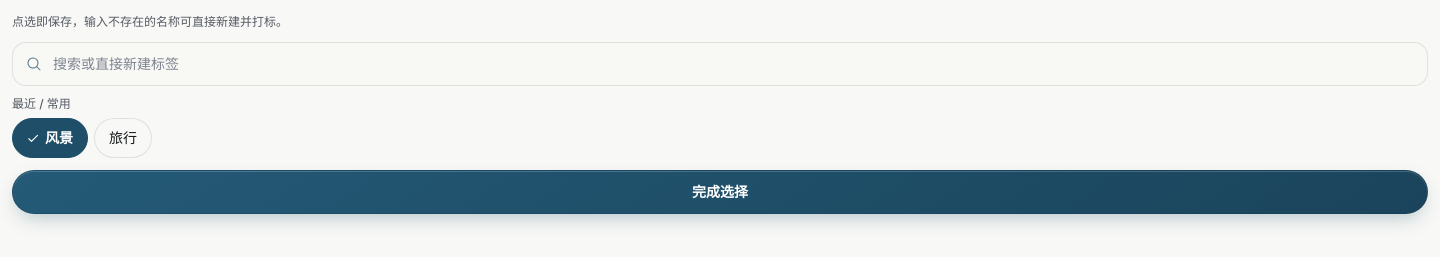
Test case: retains an unsaved label error across another label save and blocks completion until retry
This screenshot has width=1440, height=257.
Later steps or results of the test are not shown.
Click the checkbox labelled "旅行" at [123, 138], box [94,118,152,158]
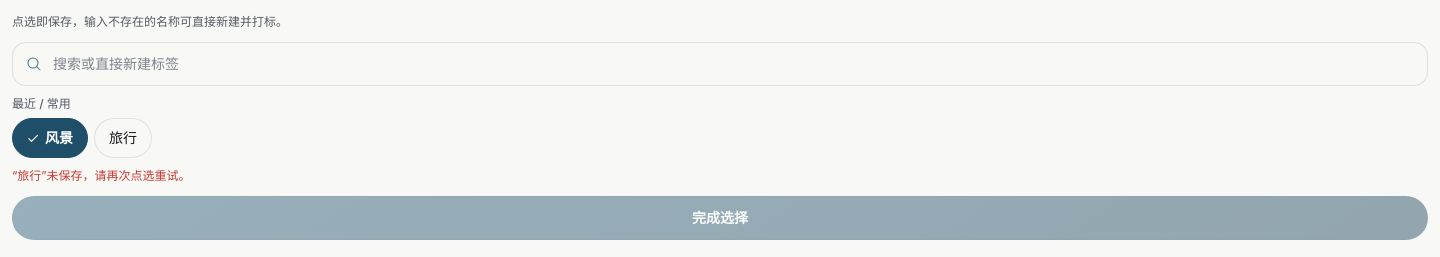
Click the checkbox labelled "风景" at [50, 138], box [12,118,88,158]
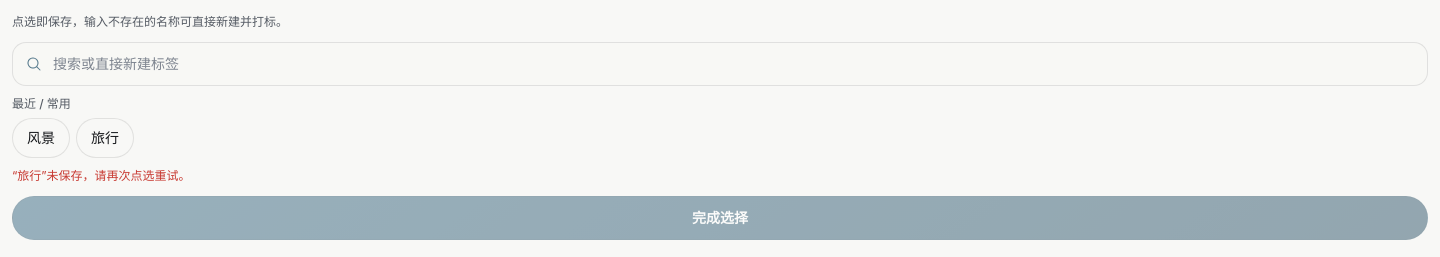
Result: the message "“旅行”未保存，请再次点选重试。" is shown at [12,168,191,182]
